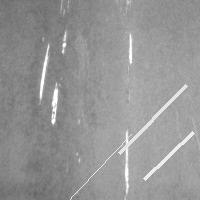scratches: (114, 80, 191, 158), (58, 129, 136, 200), (139, 127, 198, 184), (36, 36, 67, 107), (187, 113, 200, 199), (119, 127, 133, 198), (46, 77, 63, 127), (125, 28, 136, 68)
